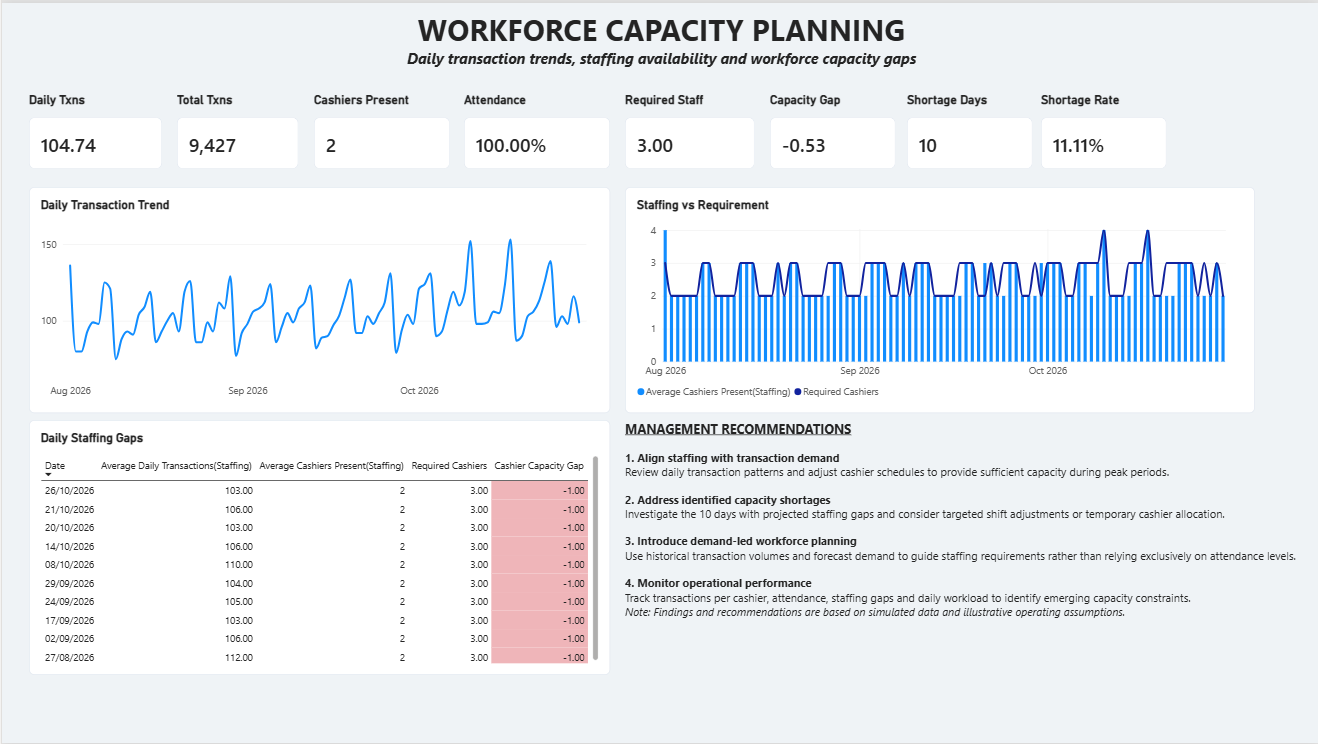

What the dashboard file says about the page in this screenshot:
{"tool":"powerbi","page":{"name":"Workforce Capacity","canvas":[1920,1080],"ordinal":2},"visuals":[{"type":"cardVisual","title":"Daily Txns","fields":{"Data":["Dim_Date.Average Daily Transactions(Staffing)"]},"box":[39.4,129.8,194,112.3],"z":0},{"type":"cardVisual","title":"Total Txns","fields":{"Data":["Dim_Date.Total Transactions Display"]},"box":[255.3,129.8,178,112.3],"z":1000},{"type":"cardVisual","title":"Cashiers Present","fields":{"Data":["Dim_Date.Average Cashiers Present(Staffing)"]},"box":[454.6,129.8,198.4,112.3],"z":2000},{"type":"cardVisual","title":"Attendance","fields":{"Data":["Dim_Date.Staff Attendance Rate(Staffing)"]},"box":[674.6,129.8,213,112.3],"z":3000},{"type":"lineChart","title":"Daily Transaction Trend","fields":{"Category":["Dim_Date.Date"],"Y":["Dim_Date.Total Transactions (Staffing)"]},"box":[39.4,268.4,847.7,329.7],"z":4000},{"type":"cardVisual","title":"Capacity Gap","fields":{"Data":["Dim_Date.Cashier Capacity Gap"]},"box":[1120.5,129.8,183.8,112.3],"z":5000},{"type":"cardVisual","title":"Required Staff","fields":{"Data":["Dim_Date.Required Cashiers"]},"box":[909.2,129.8,189.7,112.3],"z":6000},{"type":"lineClusteredColumnComboChart","title":"Staffing vs Requirement","fields":{"Category":["Dim_Date.Date"],"Y":["Dim_Date.Average Cashiers Present(Staffing)"],"Y2":["Dim_Date.Required Cashiers"]},"box":[908.9,268.4,919.1,329.7],"z":7000},{"type":"cardVisual","title":"Shortage Days","fields":{"Data":["Dim_Date.Days with Staffing Shortage"]},"box":[1320.4,129.8,183.8,112.3],"z":8000},{"type":"cardVisual","title":"Shortage Rate","fields":{"Data":["Dim_Date.Staffing Shortage Rate"]},"box":[1515.9,129.8,183.8,112.3],"z":9000},{"type":"tableEx","title":"Daily Staffing Gaps","fields":{"Values":["Dim_Date.Date","Dim_Date.Average Daily Transactions(Staffing)","Dim_Date.Average Cashiers Present(Staffing)","Dim_Date.Required Cashiers","Dim_Date.Cashier Capacity Gap"]},"box":[39.4,608.4,847.7,372],"z":10000},{"type":"textbox","box":[908.9,608.4,997.9,372],"z":11000},{"type":"textbox","box":[39.4,8.8,1845.6,102.1],"z":12000}]}

Visuals, with their boxes in screenshot pixels (x1, y1, x2, y2), scaled from the page's 1920x1080 canvas onto the 1318x744 screenshot:
"Daily Txns" cardVisual: box=[27, 89, 160, 167]
"Total Txns" cardVisual: box=[175, 89, 297, 167]
"Cashiers Present" cardVisual: box=[312, 89, 448, 167]
"Attendance" cardVisual: box=[463, 89, 609, 167]
"Daily Transaction Trend" lineChart: box=[27, 185, 609, 412]
"Capacity Gap" cardVisual: box=[769, 89, 895, 167]
"Required Staff" cardVisual: box=[624, 89, 754, 167]
"Staffing vs Requirement" lineClusteredColumnComboChart: box=[624, 185, 1255, 412]
"Shortage Days" cardVisual: box=[906, 89, 1033, 167]
"Shortage Rate" cardVisual: box=[1041, 89, 1167, 167]
"Daily Staffing Gaps" tableEx: box=[27, 419, 609, 675]
textbox: box=[624, 419, 1309, 675]
textbox: box=[27, 6, 1294, 76]
